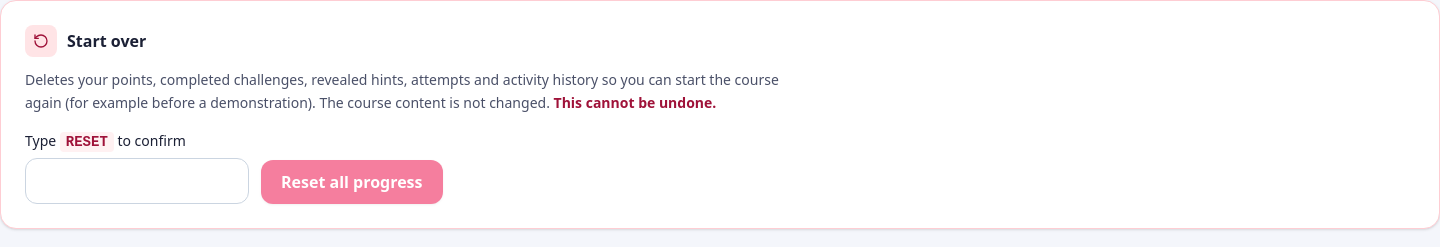
Scenario: ResetProgressPanel › stays disabled until RESET is typed exactly, then sends the confirmation word
Later steps or results of the test are not shown.
Expected: the button "Reset all progress" is disabled, [261,160,442,204]
Type "reset" into the field labelled "Type RESET to confirm" at (137, 180), box [25,158,249,204]
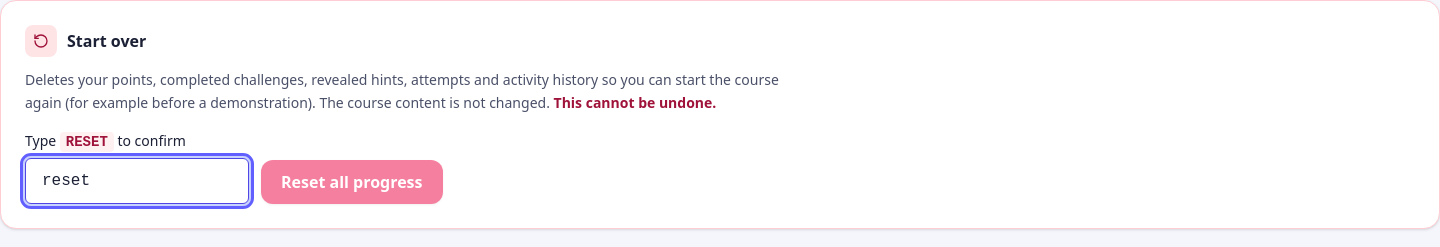
Expected: the button "Reset all progress" is disabled, [261,160,442,204]
Replace the text in the field labelled "Type RESET to confirm" with "RESET" at (137, 180), box [25,158,249,204]
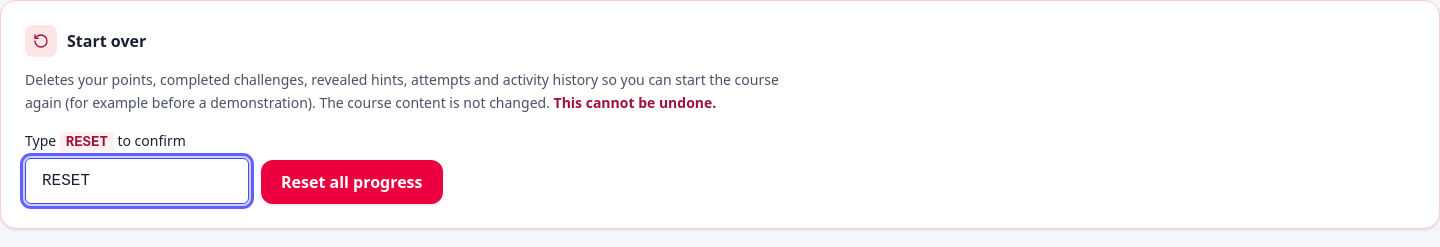
Expected: the button "Reset all progress" is enabled, [261,160,442,204]
